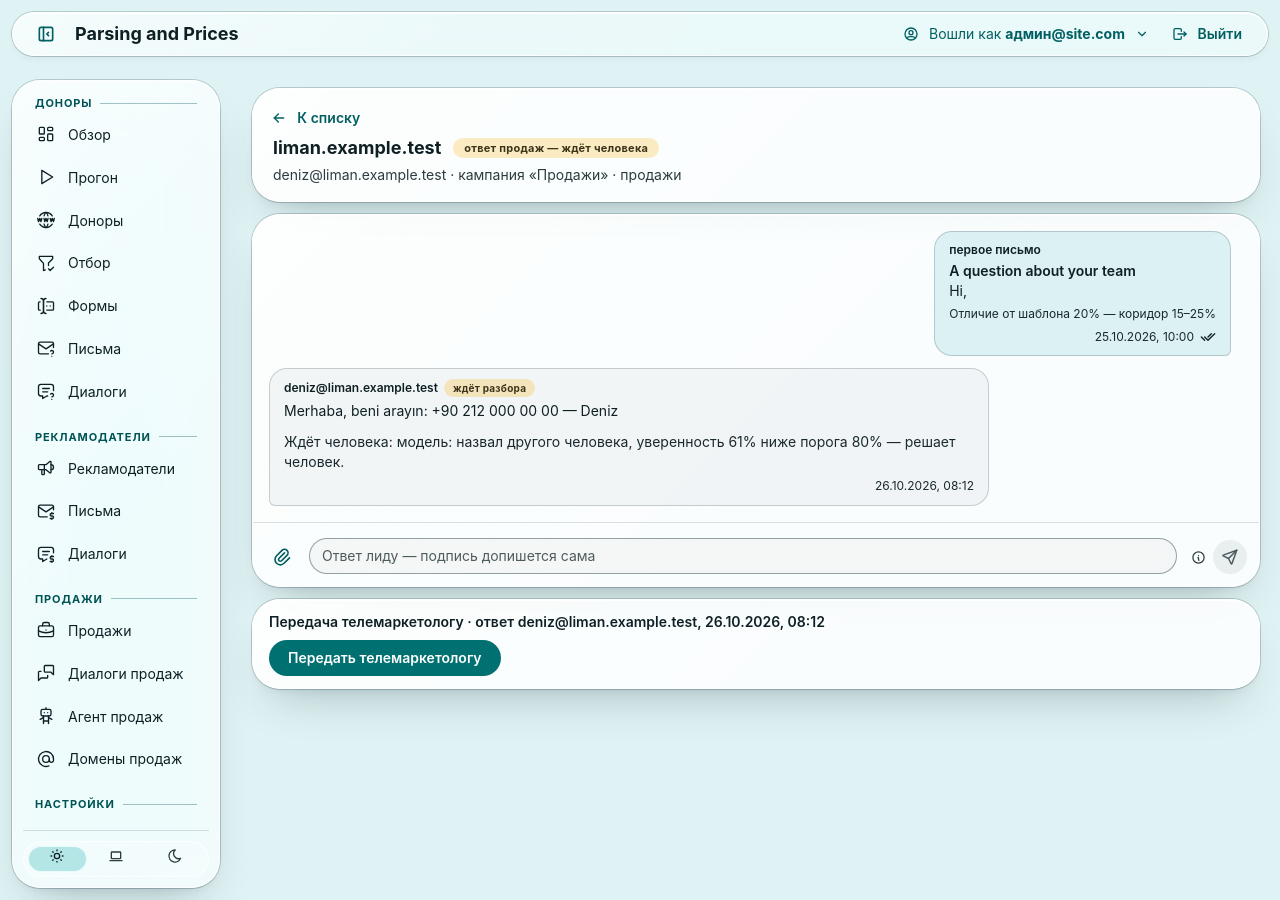
it: «Передать телемаркетологу» у ответа продаж › повтор с устаревшей переписки не ломает: «уже передан» — и на месте кнопки строка состояния
The width and height of the screenshot is (1280, 900).
Expected: the heading "liman.example.test" is shown, [273,135,441,161]
Click the button "Передать телемаркетологу": (385, 658) [269,640,501,676]
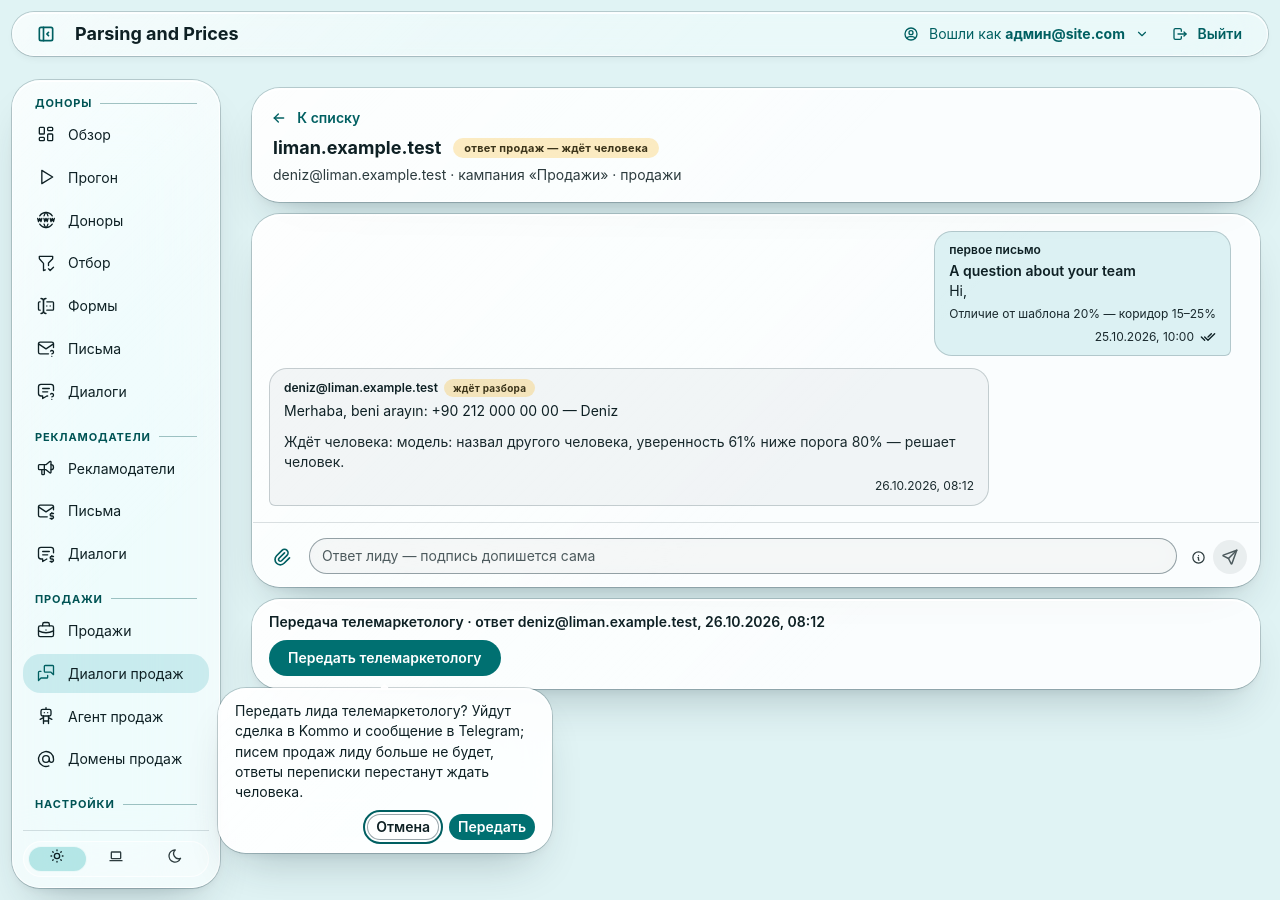
Click the button "Передать": (492, 827) [449,814,535,840]
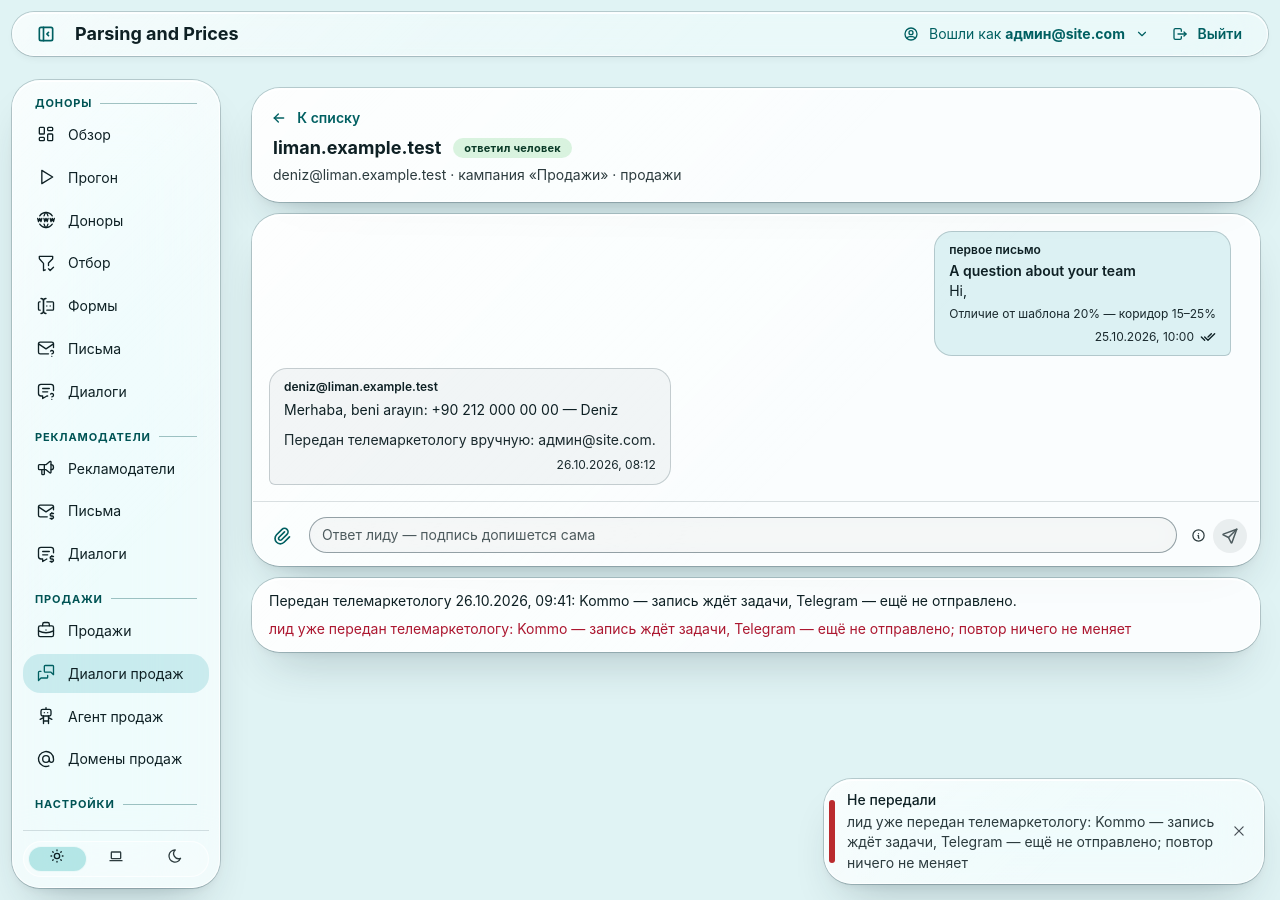
Result: the button "Передать телемаркетологу" is gone
